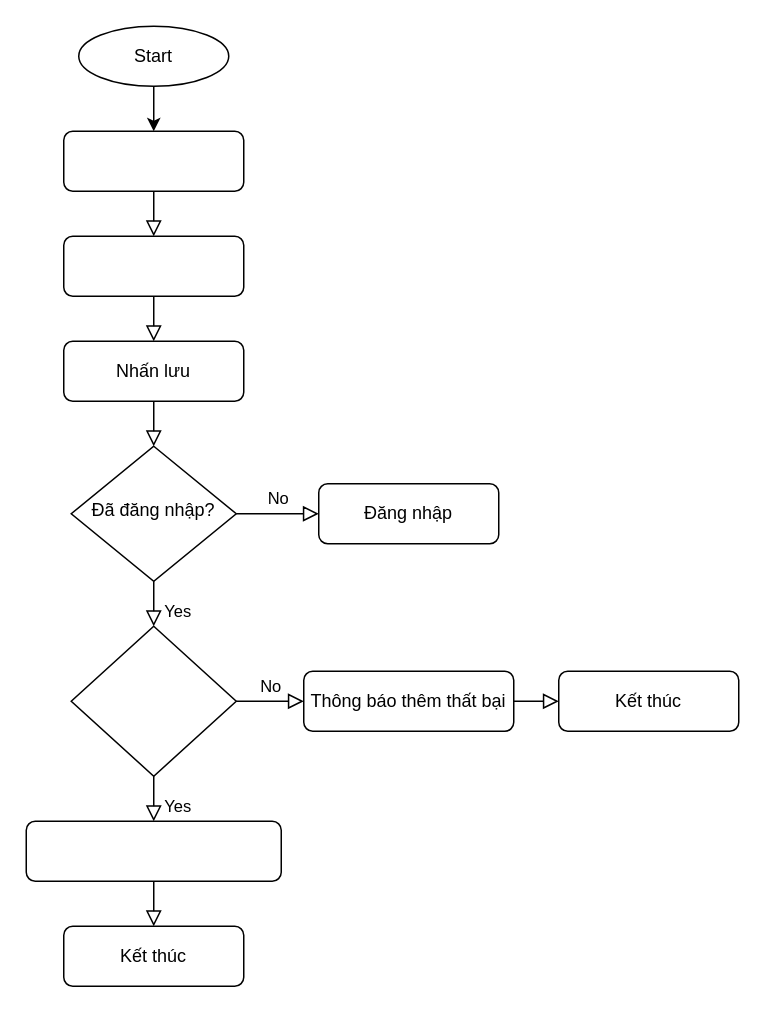
Image size: 765x1013. Some labels were removed from this diagram. Each missing label, with the centre of its shape:
Nhấn nút "Thêm": (153,160)
Nhập thông tin: (153,265)
Thông tin hợp lệ?: (153,700)
Trở về danh sách sản phẩm: (153,850)
